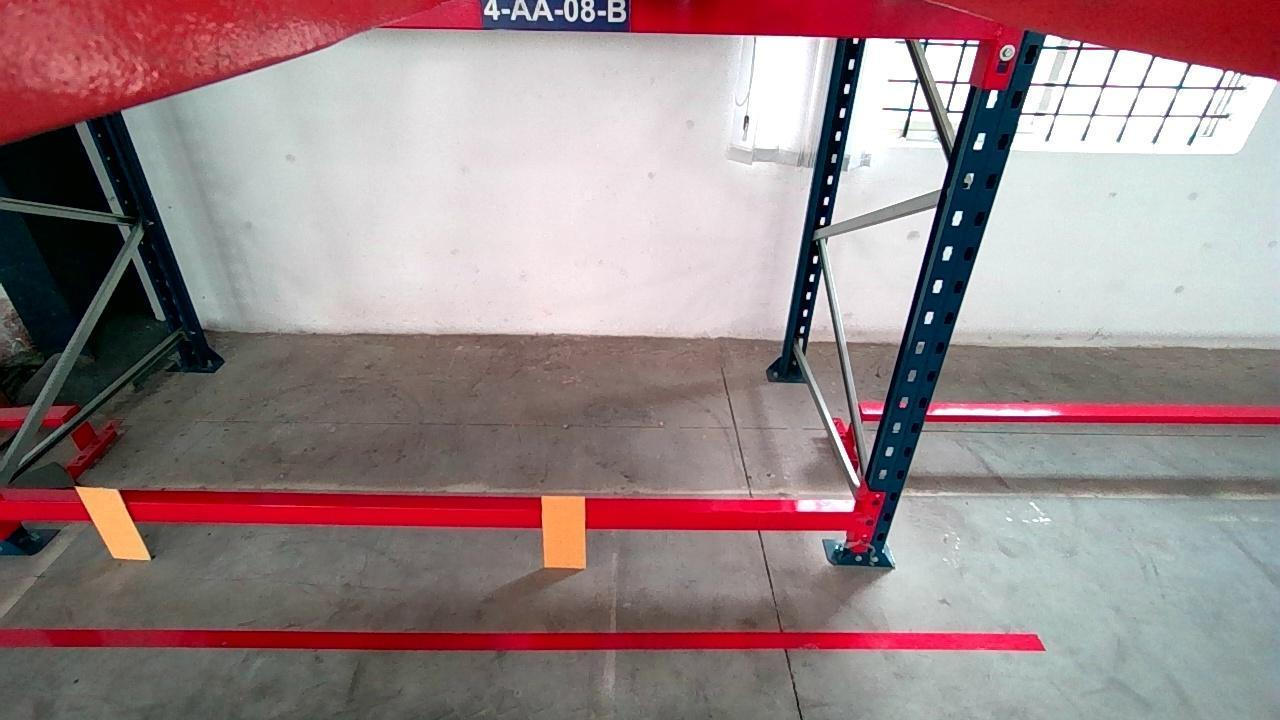h_rack: (1, 499, 855, 528), (380, 0, 999, 40)
orange_strip: (76, 487, 149, 556), (541, 496, 587, 567)
red_line: (0, 626, 1047, 650)
